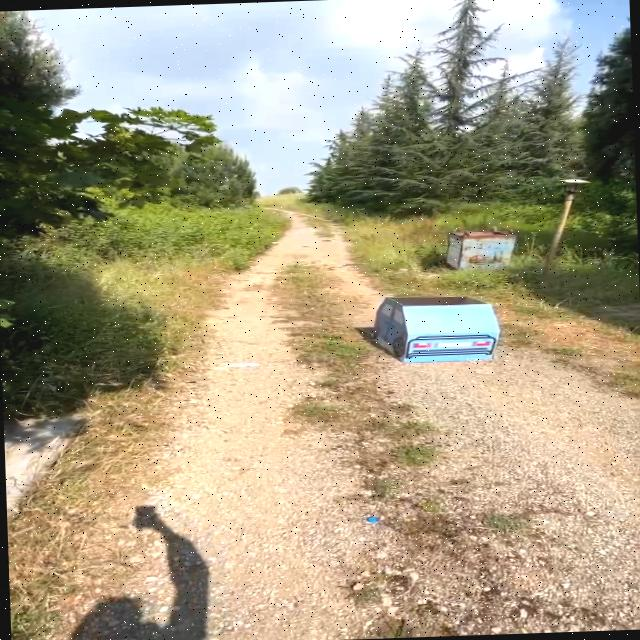blue_car: (349, 281, 524, 383)
